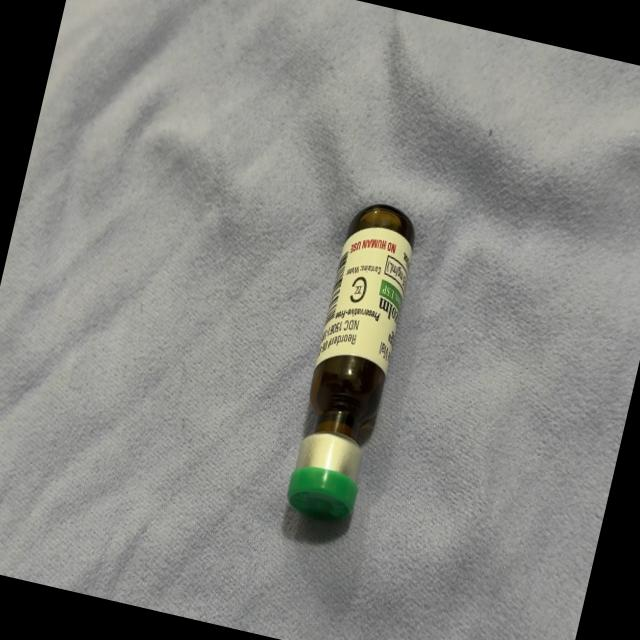midazolm: (284, 202, 422, 522)
